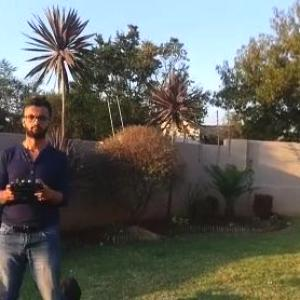follow: (0, 92, 84, 299)
